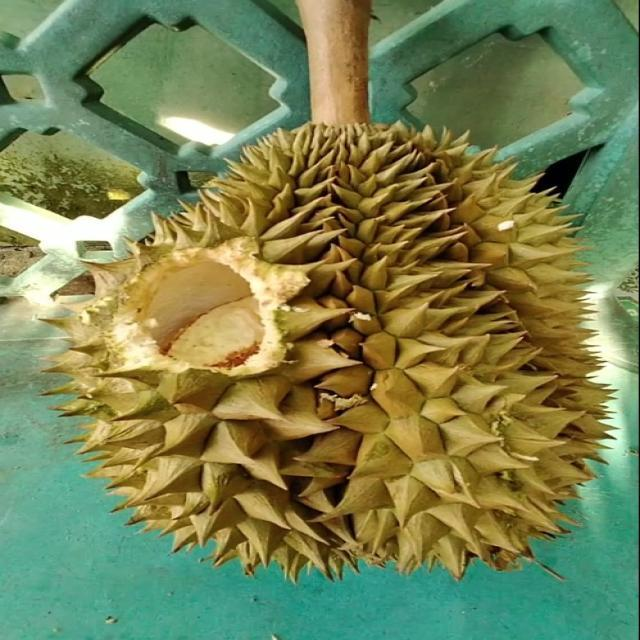defective: (40, 111, 612, 585)
